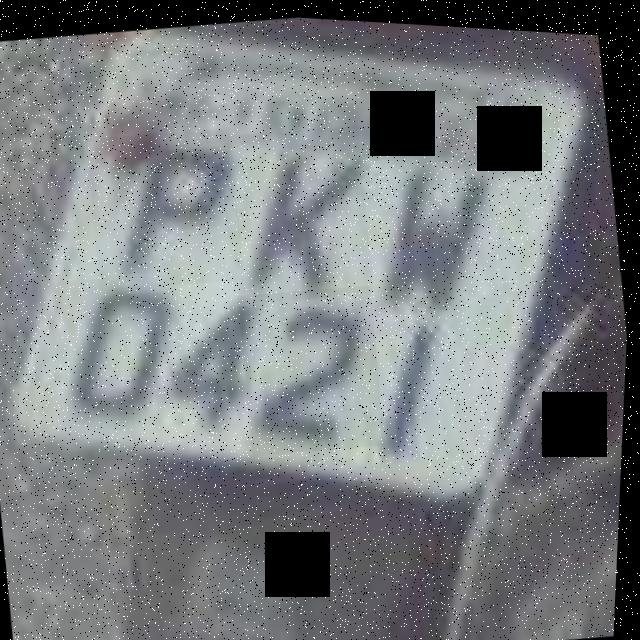0: (42, 264, 203, 440)
1: (361, 299, 462, 457)
2: (235, 275, 395, 459)
4: (146, 268, 300, 450)
K: (214, 114, 382, 308)
P: (82, 118, 253, 296)
W: (347, 122, 508, 319)
